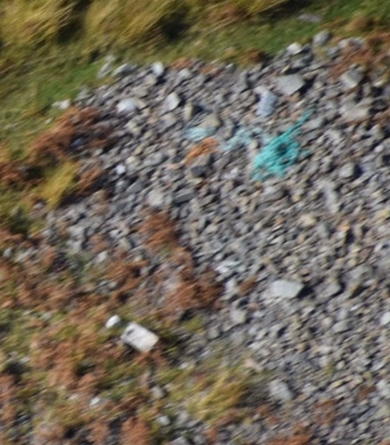cuboid: (112, 317, 166, 357)
net: (251, 111, 318, 176), (182, 117, 259, 166)
